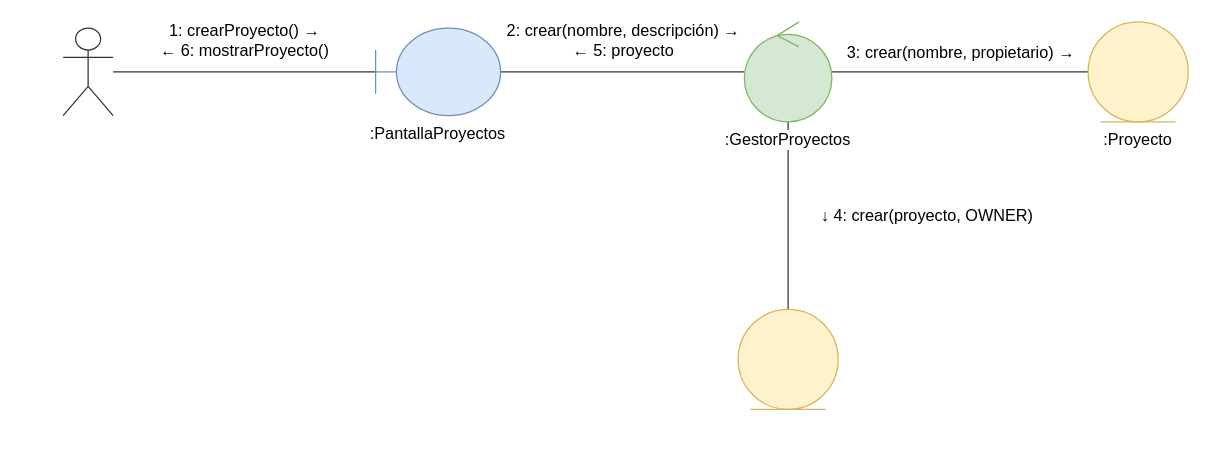
Image size: 1210x460. Some labels were removed from this diagram. The shapes that lost their labels are listed below. From the top down, each one's centre as x and y in pixels, then its label:
At point 87,71: "Usuario registrado".
At point 787,358: ":MiembroProyecto".
